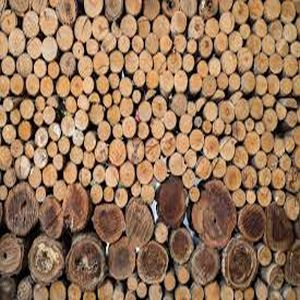log: (191, 182, 238, 250), (193, 180, 237, 250), (65, 236, 106, 291), (26, 236, 67, 286), (4, 182, 39, 236), (221, 239, 257, 286), (154, 177, 187, 228), (122, 199, 154, 249), (105, 238, 139, 281), (62, 183, 90, 234), (91, 203, 125, 242), (189, 246, 221, 286), (36, 196, 65, 239), (138, 243, 168, 282), (238, 205, 268, 242), (264, 216, 294, 250), (1, 235, 25, 277), (169, 229, 194, 265), (108, 139, 128, 166), (224, 164, 242, 194), (40, 9, 59, 36), (12, 156, 31, 182), (41, 35, 59, 62), (168, 152, 186, 179), (126, 139, 145, 164), (8, 29, 26, 55), (152, 15, 171, 39), (17, 97, 36, 121), (74, 16, 92, 41), (240, 165, 258, 190), (219, 136, 236, 162), (56, 1, 77, 22), (220, 51, 238, 75), (57, 24, 74, 49), (60, 51, 77, 76), (144, 138, 161, 163), (188, 128, 205, 153), (195, 155, 212, 180), (168, 93, 188, 114), (187, 15, 205, 38), (23, 12, 40, 36), (153, 157, 168, 184), (120, 163, 136, 188), (1, 10, 19, 32), (120, 15, 137, 38), (237, 48, 254, 71), (136, 161, 153, 184), (285, 195, 300, 221), (92, 18, 110, 39), (16, 55, 34, 76), (233, 145, 248, 170), (269, 266, 284, 291), (26, 37, 42, 60), (171, 11, 187, 34), (25, 74, 41, 97), (95, 120, 111, 143), (245, 132, 261, 155), (203, 136, 219, 159), (256, 244, 272, 267), (28, 166, 43, 190), (77, 57, 94, 78), (55, 77, 72, 98), (16, 121, 33, 142), (88, 104, 105, 125), (210, 158, 227, 179), (82, 1, 104, 17), (93, 52, 109, 74), (261, 35, 277, 57), (151, 96, 167, 118), (74, 109, 90, 131), (175, 133, 191, 155), (42, 165, 58, 187), (234, 1, 249, 24), (49, 282, 68, 300), (104, 1, 124, 18), (33, 58, 49, 79), (283, 55, 299, 76), (240, 72, 256, 93), (219, 101, 235, 122), (105, 105, 121, 126), (178, 114, 194, 135), (257, 167, 273, 188), (286, 168, 300, 192), (282, 21, 297, 43), (159, 72, 174, 94), (121, 117, 136, 139), (232, 121, 247, 143), (33, 147, 48, 169), (160, 134, 175, 156), (105, 166, 120, 188), (272, 168, 287, 190), (113, 186, 128, 208), (100, 33, 117, 52), (264, 1, 281, 20), (38, 78, 55, 97), (228, 31, 242, 54), (136, 102, 152, 122), (33, 127, 49, 147), (257, 187, 273, 207), (174, 265, 190, 285), (254, 53, 269, 74), (235, 99, 250, 120), (140, 184, 155, 205), (263, 108, 276, 132), (110, 51, 124, 73), (174, 71, 188, 93), (61, 116, 75, 138), (95, 141, 109, 163), (63, 161, 77, 183), (230, 190, 247, 208), (143, 34, 159, 53), (246, 36, 261, 56), (94, 75, 109, 95), (150, 119, 165, 139), (1, 146, 13, 171), (69, 146, 84, 166), (92, 164, 107, 184), (183, 149, 198, 169), (11, 74, 24, 97), (250, 96, 263, 119), (282, 1, 296, 22), (214, 34, 228, 55), (69, 76, 83, 97), (82, 74, 96, 95), (266, 74, 280, 95), (85, 38, 101, 56), (268, 21, 284, 39), (119, 76, 132, 98), (1, 123, 14, 145), (261, 132, 274, 154), (220, 13, 235, 32), (269, 55, 284, 74), (204, 101, 219, 120), (163, 111, 178, 130), (182, 170, 197, 189), (205, 17, 219, 37), (200, 37, 214, 57), (125, 53, 139, 73), (168, 53, 182, 73), (202, 76, 216, 96), (57, 136, 71, 156), (78, 167, 92, 187), (90, 183, 104, 203), (83, 131, 96, 152), (139, 52, 153, 71), (145, 70, 159, 89), (43, 106, 57, 125), (136, 123, 150, 142), (211, 118, 225, 137), (117, 35, 130, 55), (208, 56, 221, 76), (102, 185, 115, 205), (145, 1, 161, 17), (70, 131, 86, 147), (71, 41, 86, 58), (63, 97, 78, 114), (119, 99, 134, 116), (188, 75, 202, 93), (10, 140, 24, 158), (82, 151, 96, 169), (280, 155, 294, 173), (2, 56, 15, 75), (138, 18, 151, 37), (153, 54, 166, 73), (255, 76, 268, 95), (253, 150, 266, 169), (284, 110, 297, 129), (53, 180, 66, 199), (156, 224, 169, 243), (125, 276, 138, 295), (252, 20, 267, 36), (182, 52, 194, 72), (49, 122, 61, 142), (249, 1, 263, 18), (159, 36, 173, 53), (132, 70, 146, 87), (205, 283, 219, 300), (125, 1, 143, 14), (276, 39, 289, 57), (98, 282, 111, 300), (1, 75, 11, 98), (164, 273, 176, 292), (33, 285, 48, 300), (67, 284, 81, 300), (131, 35, 144, 52), (228, 74, 241, 91), (266, 154, 279, 171), (244, 189, 257, 206), (220, 283, 233, 300), (174, 35, 186, 53), (274, 138, 286, 156), (274, 188, 286, 206), (216, 74, 230, 89), (261, 93, 276, 107), (187, 187, 202, 201), (77, 95, 90, 111), (52, 154, 65, 170), (48, 61, 60, 78), (274, 250, 286, 267), (9, 109, 21, 125), (34, 95, 46, 111), (35, 186, 47, 202), (279, 77, 290, 94), (202, 120, 213, 137), (239, 24, 251, 39), (197, 61, 209, 76), (46, 96, 61, 108), (255, 285, 267, 300), (244, 118, 255, 134), (130, 182, 141, 198), (191, 287, 204, 300), (101, 94, 113, 108), (109, 74, 120, 89), (290, 41, 300, 57), (186, 39, 198, 52), (193, 115, 203, 130), (243, 287, 254, 300), (47, 142, 57, 156), (131, 90, 142, 102), (89, 93, 100, 104), (4, 98, 13, 111), (235, 289, 244, 299)
